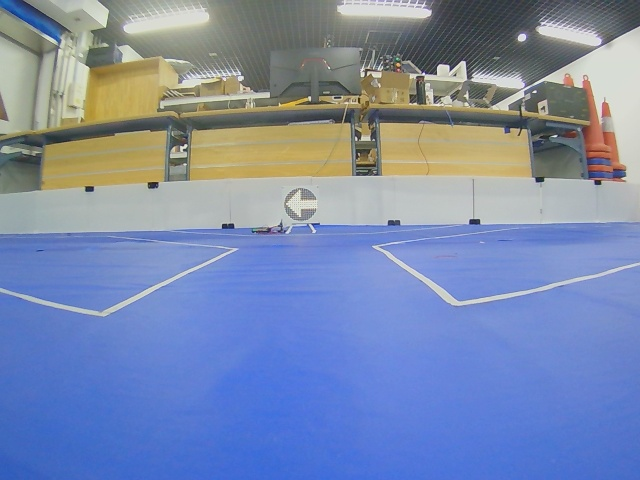left_yellow: (285, 188, 318, 221)
